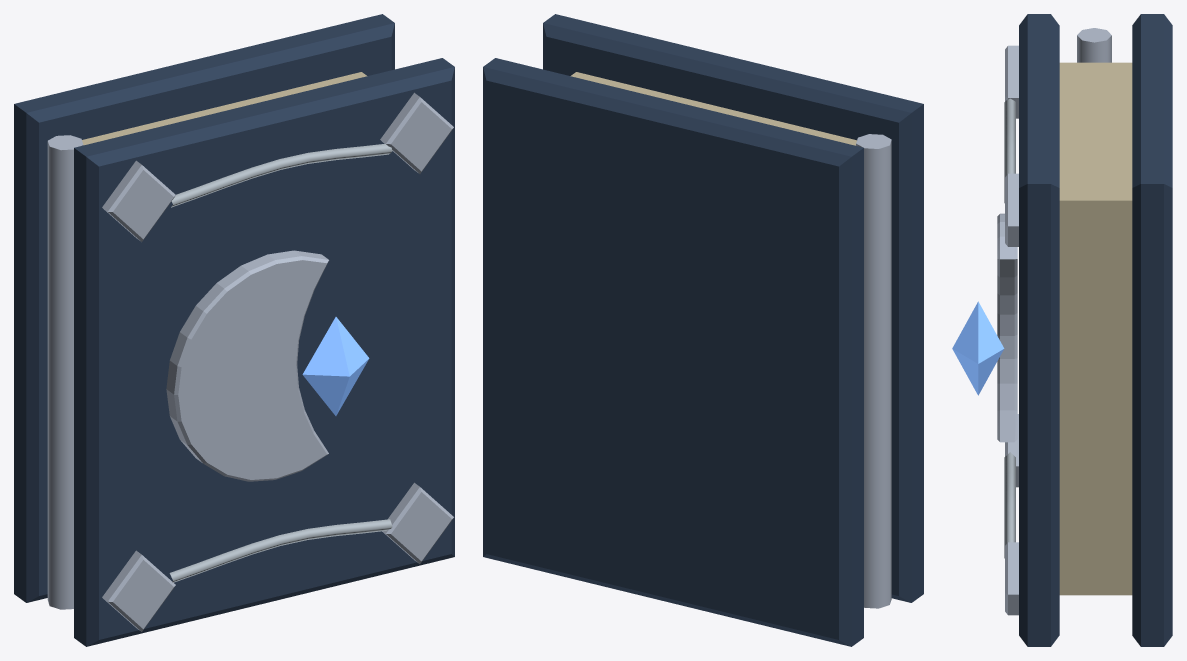
File: universal-low.glb
The picture shows the model from 3 angles, left to right: view 1: azimuth 30°, elevation 25°; view 2: azimuth 150°, elevation 25°; view 3: azimuth 270°, elevation 25°; orthographic projection. The views are drawn at different scales.
Parts seen in each view (by area): view 1: Skyweaver Tome; view 2: Skyweaver Tome; view 3: Skyweaver Tome.
Part boxes in pixels (x1,y1,x2,y2): Skyweaver Tome: [14, 14, 454, 646]; Skyweaver Tome: [483, 14, 923, 646]; Skyweaver Tome: [952, 14, 1172, 646].
Size of the model in its own units: 0.278 by 0.352 by 0.152.
